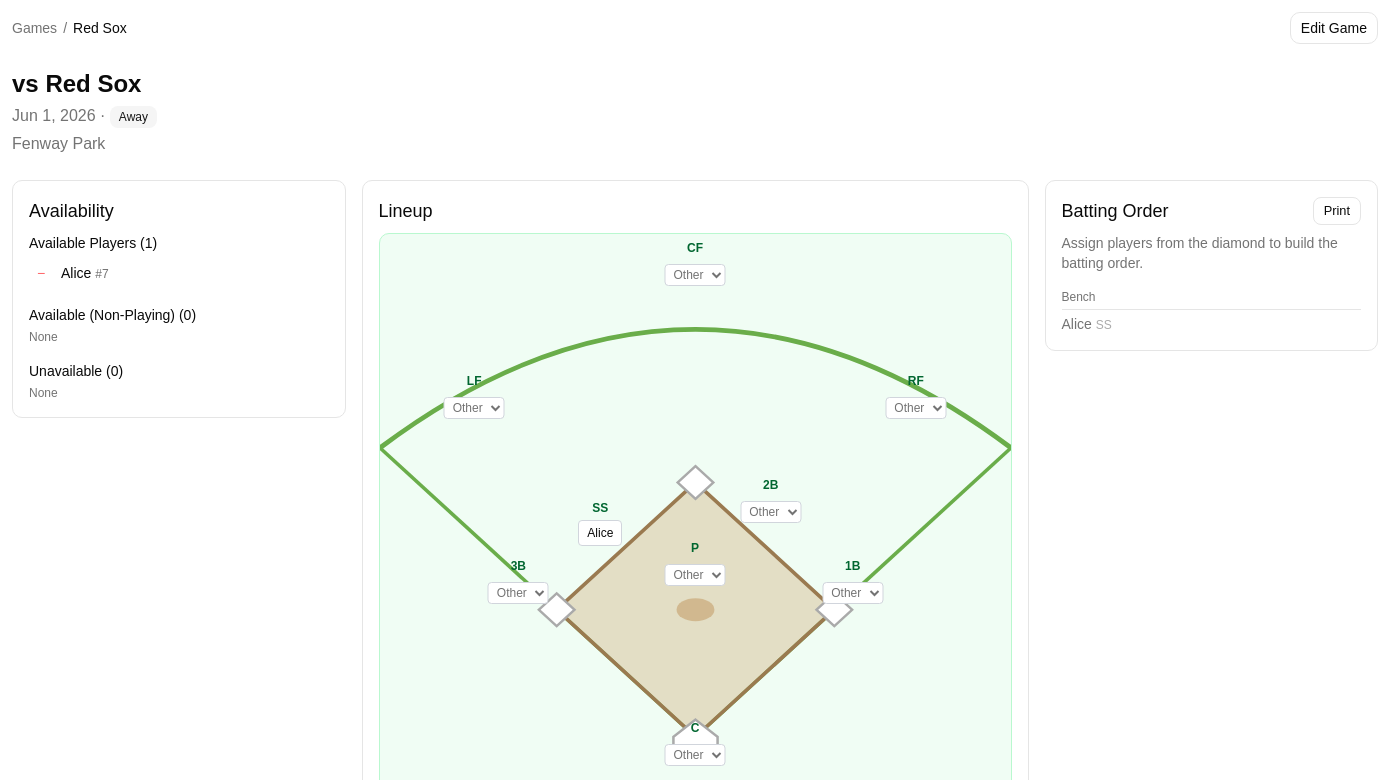
Test: GameDetailPage › busy disables diamond interaction during mutation
The width and height of the screenshot is (1390, 780).
Click the button "Alice" at point(600, 533), box [578,520,622,546]
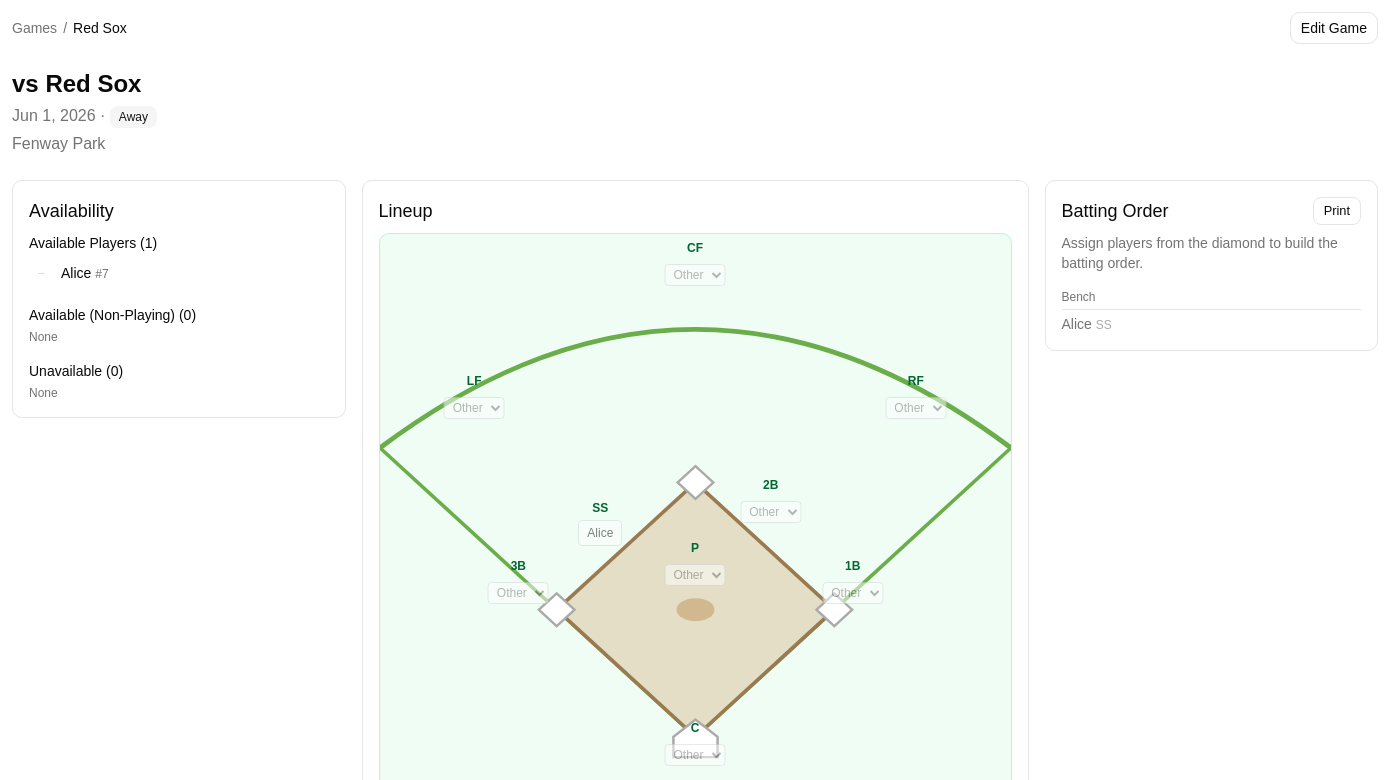
expect the button "Alice" is disabled: met, box [578,520,622,546]
